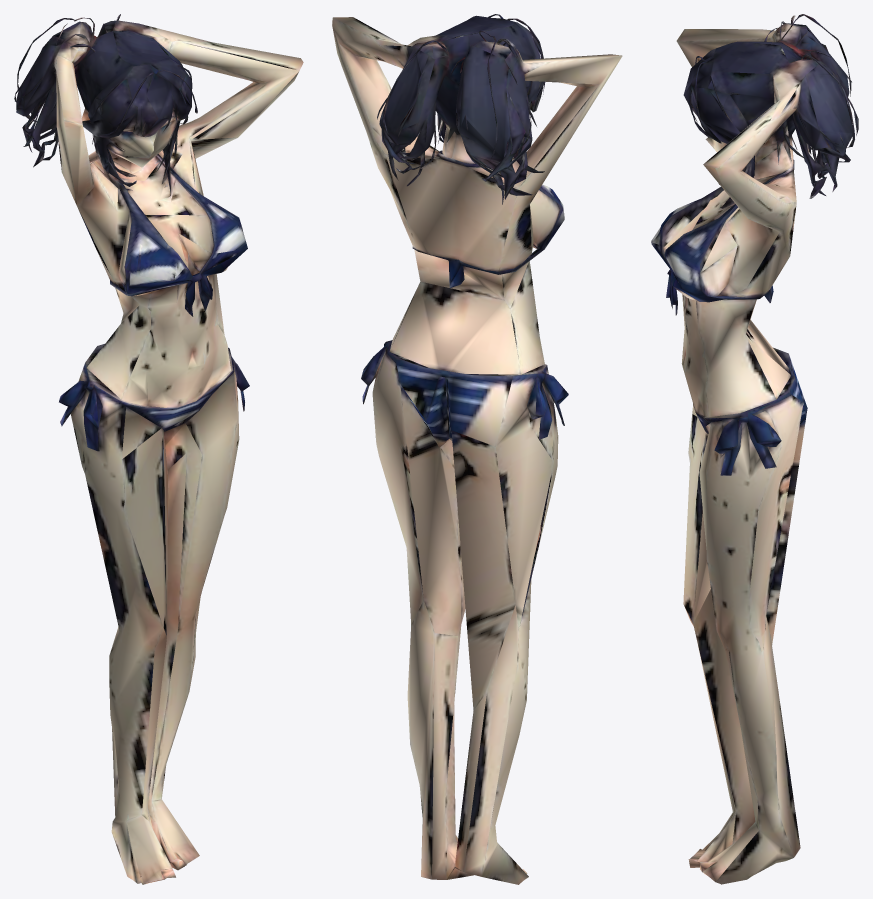
File: crew-01.lod1.glb
3 views of the same model, side by side, from view 1: azimuth 30°, elevation 25°; view 2: azimuth 150°, elevation 25°; view 3: azimuth 270°, elevation 25° (orthographic). The views are drawn at different scales.
Visible parts, largest first — view 1: Object_4; view 2: Object_4; view 3: Object_4.
Part boxes in pixels (x1,y1,x2,y2): Object_4: (14,14,303,884); Object_4: (332,14,622,884); Object_4: (651,14,858,884).
Bounding box in the file's own units: 0.3199 × 0.9973 × 0.2258.
Materials: 1 (1 with a texture image).
